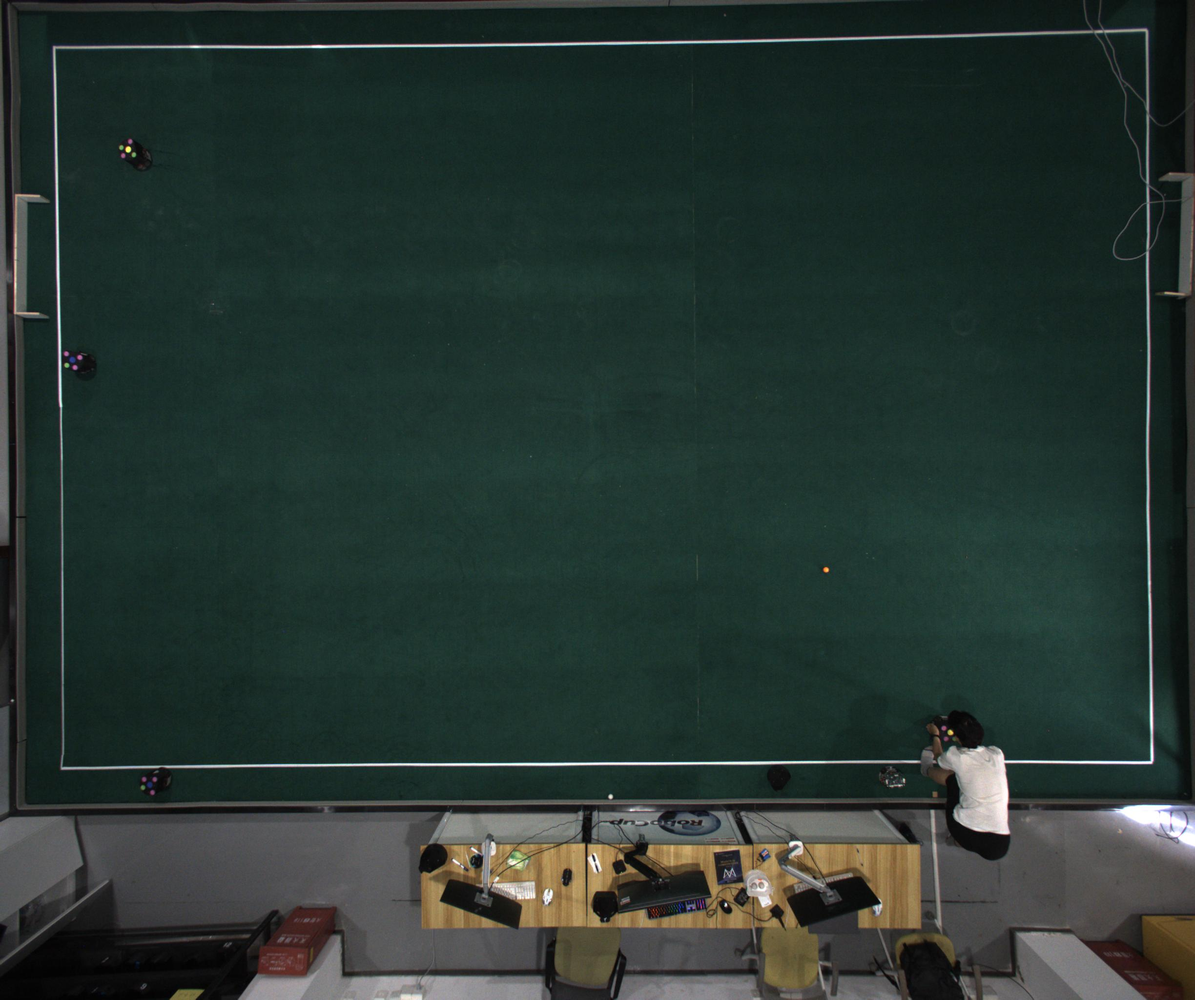ball: (823, 566, 829, 573)
blue_bot: (140, 775, 160, 796), (62, 351, 83, 371)
yellow_bot: (118, 138, 138, 161)
